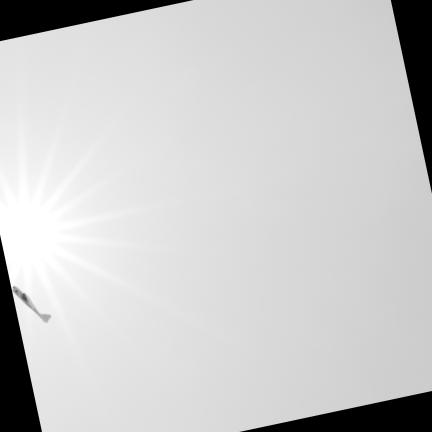Shahed: (12, 287, 49, 322)
